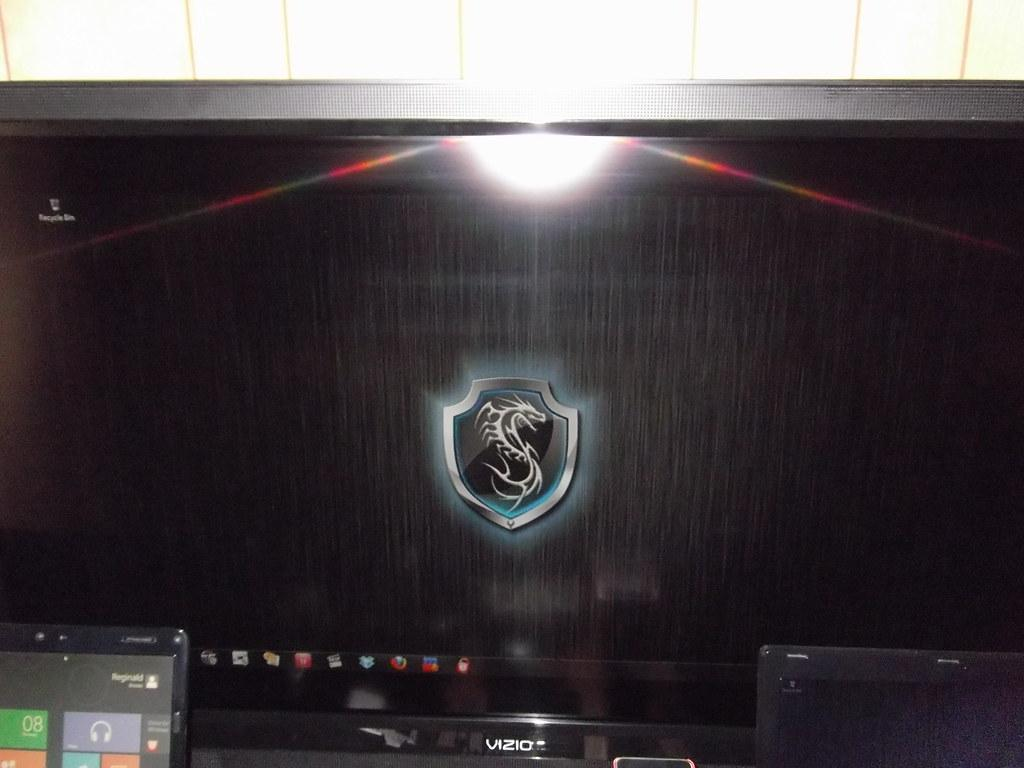computer: (1, 78, 1023, 765), (755, 643, 1023, 767), (1, 622, 190, 768)
